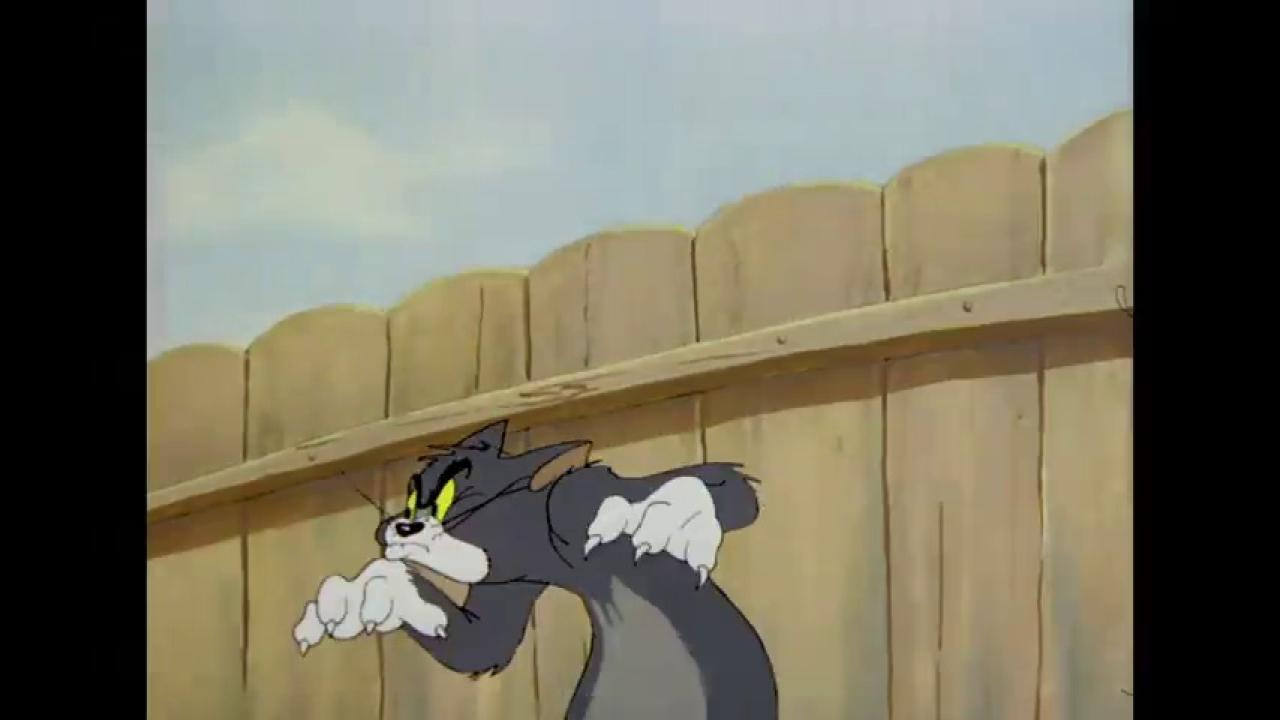Tom: (288, 415, 781, 720)
